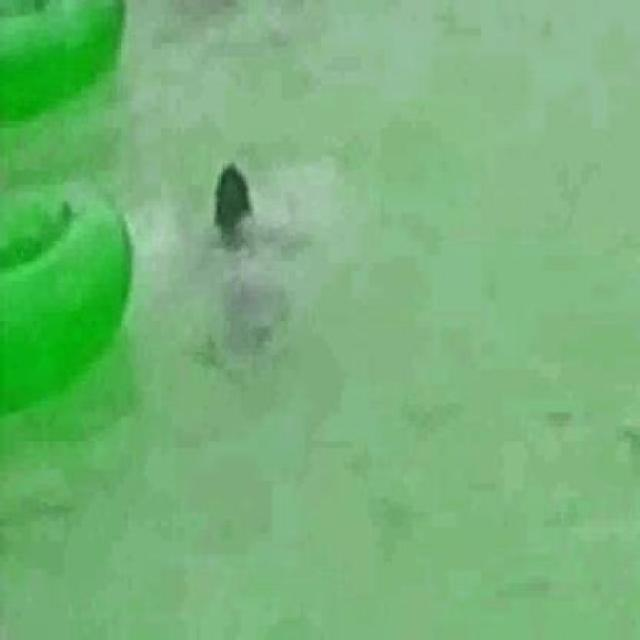drowning: (204, 155, 284, 340)
